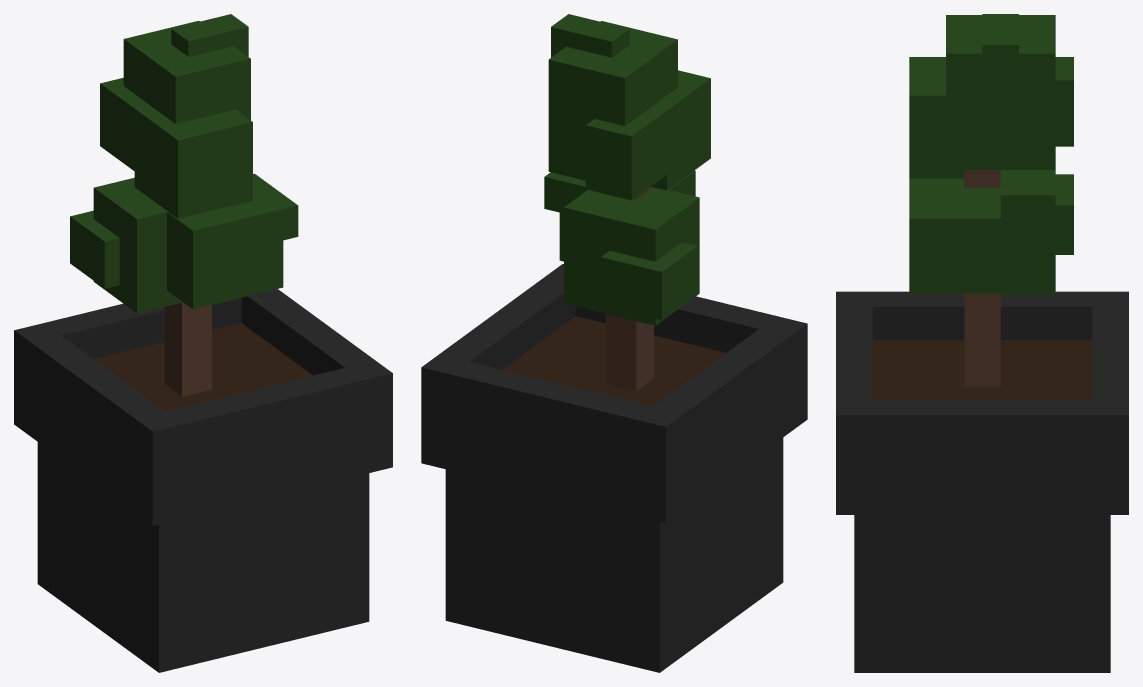
Rendered from plant_big_02.glb.
The picture shows the model from 3 angles, left to right: view 1: azimuth 30°, elevation 25°; view 2: azimuth 150°, elevation 25°; view 3: azimuth 270°, elevation 25°; orthographic projection. The views are drawn at different scales.
Parts seen in each view (by area): view 1: Untitled; view 2: Untitled; view 3: Untitled.
Part boxes in pixels (x1,y1,x2,y2): Untitled: (14,14,392,672); Untitled: (421,14,807,672); Untitled: (836,14,1128,672).
Bounding box in the file's own units: 0.48 × 1.08 × 0.48.
1 material, 1 textured.
